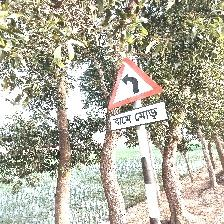Left-Turn: (106, 56, 169, 133)
